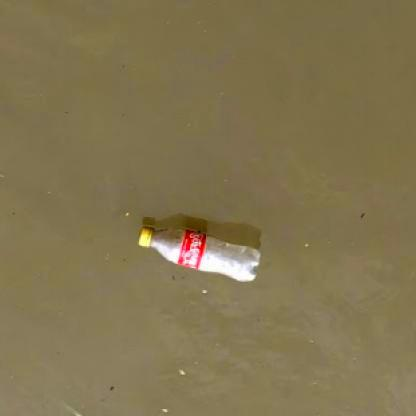Plastic: (136, 227, 265, 283)
